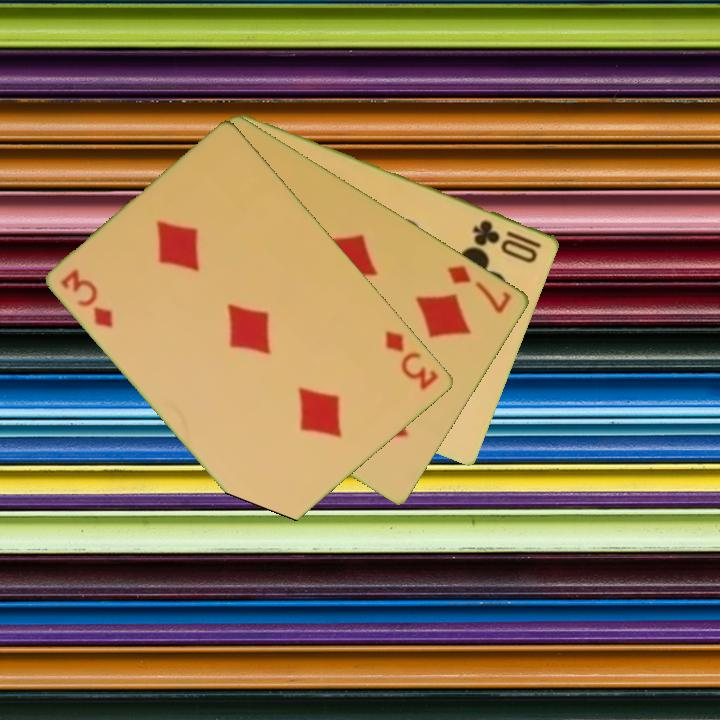10c: (469, 216, 546, 266)
3d: (382, 327, 442, 393), (57, 265, 117, 331)
7d: (444, 261, 515, 316)
